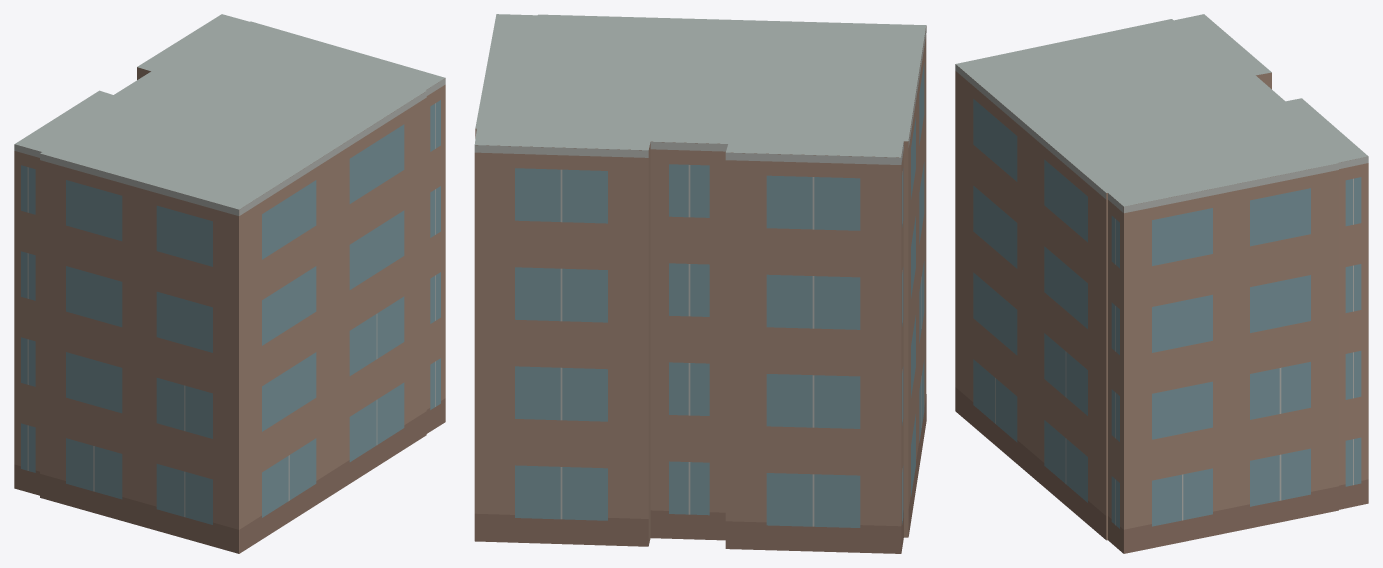
Rendered from survey-upis-32725753.glb.
The picture shows the model from 3 angles, left to right: view 1: azimuth 30°, elevation 25°; view 2: azimuth 150°, elevation 25°; view 3: azimuth 270°, elevation 25°; orthographic projection. The views are drawn at different scales.
Visible parts, largest first — view 1: survey-upis-32725753.tmp; view 2: survey-upis-32725753.tmp; view 3: survey-upis-32725753.tmp.
Part boxes in pixels (box(x1,y1,x2,y2)): survey-upis-32725753.tmp: box(14, 14, 445, 553); survey-upis-32725753.tmp: box(474, 14, 926, 553); survey-upis-32725753.tmp: box(955, 14, 1368, 553).
Bounding box in the file's own units: 15.12 × 12.7 × 13.7.
